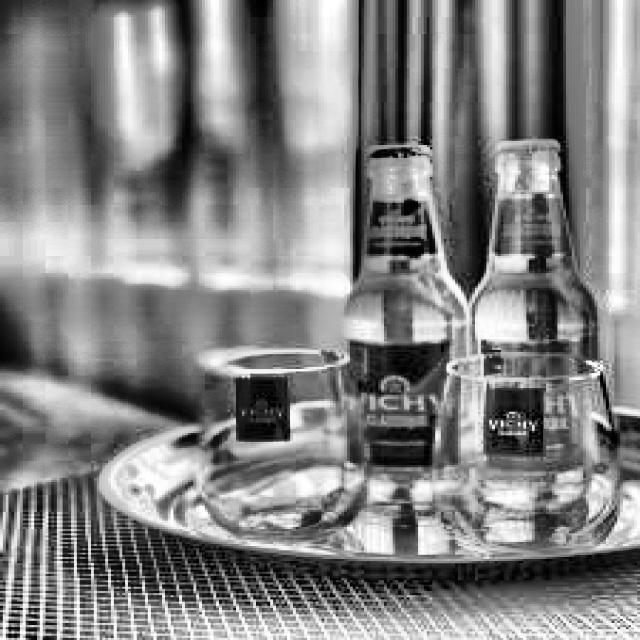waterbottle: (440, 123, 611, 502), (325, 130, 481, 523)
